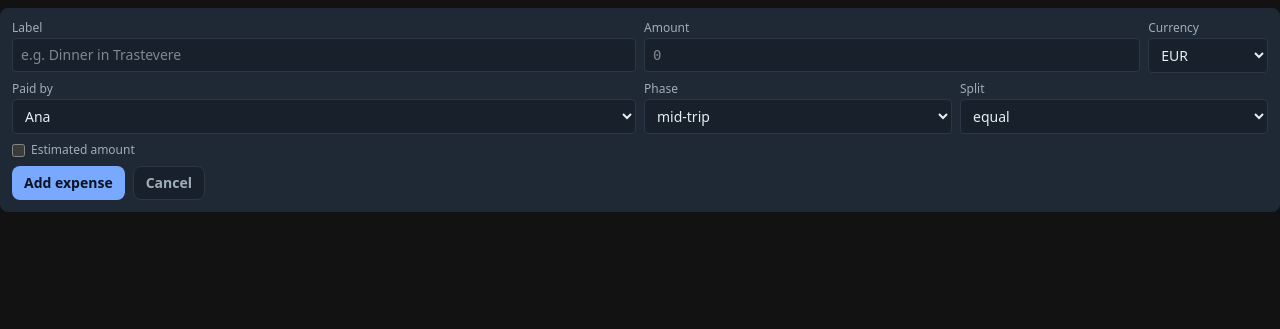
Test case: ExpenseForm › percent split: converts % inputs to fractions and renders the parent's sum error
The image size is (1280, 329).
In the field labelled "Label": {"x": 324, "y": 55} top-left (12, 38), bottom-right (636, 72), type "Taxi"
In the field labelled "Amount": {"x": 892, "y": 55} top-left (644, 38), bottom-right (1140, 72), type "30"
Select "percent" in the dropdown labelled "Split": {"x": 1114, "y": 116} top-left (960, 99), bottom-right (1268, 134)
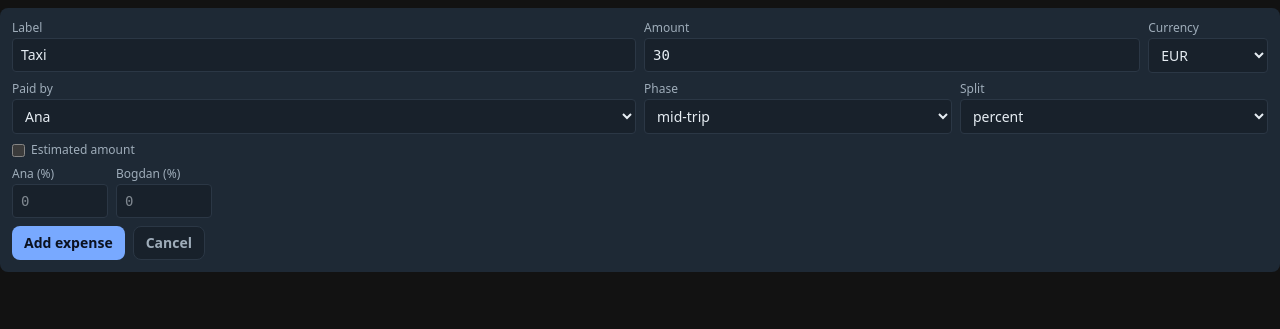
In the field labelled "Ana (%)": {"x": 60, "y": 201} top-left (12, 184), bottom-right (108, 218), type "60"
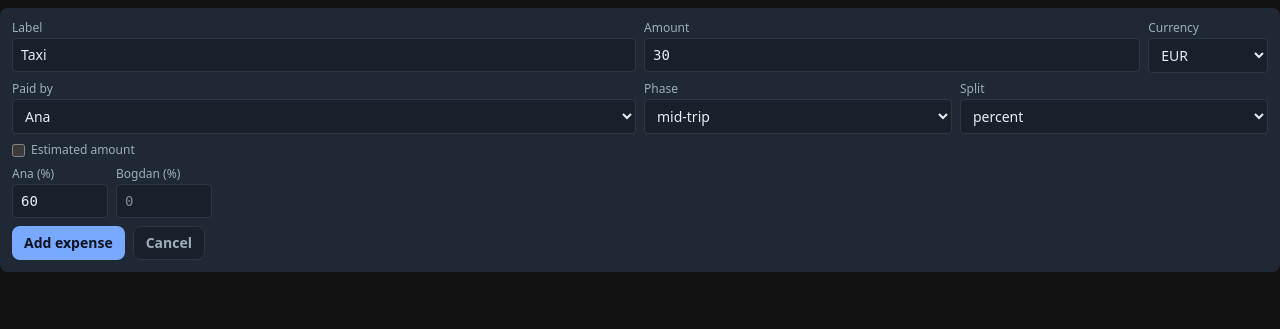
In the field labelled "Bogdan (%)": {"x": 164, "y": 201} top-left (116, 184), bottom-right (212, 218), type "30"
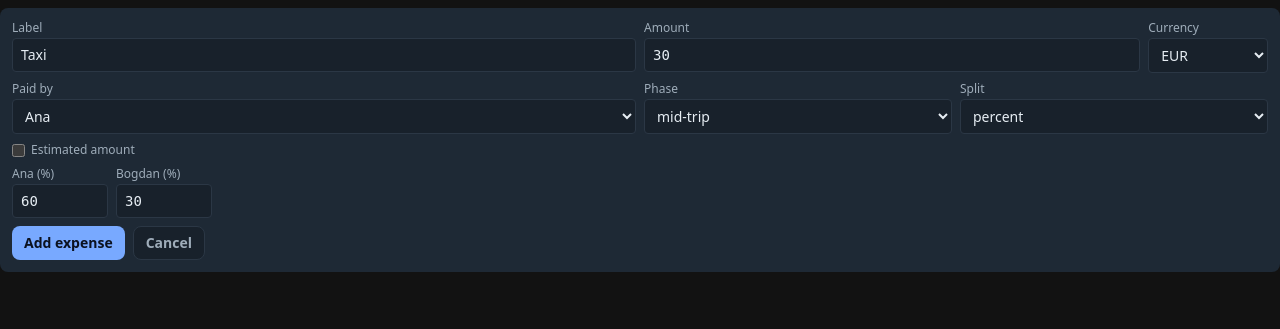
Click the button "Add expense": {"x": 68, "y": 243} top-left (12, 226), bottom-right (125, 260)
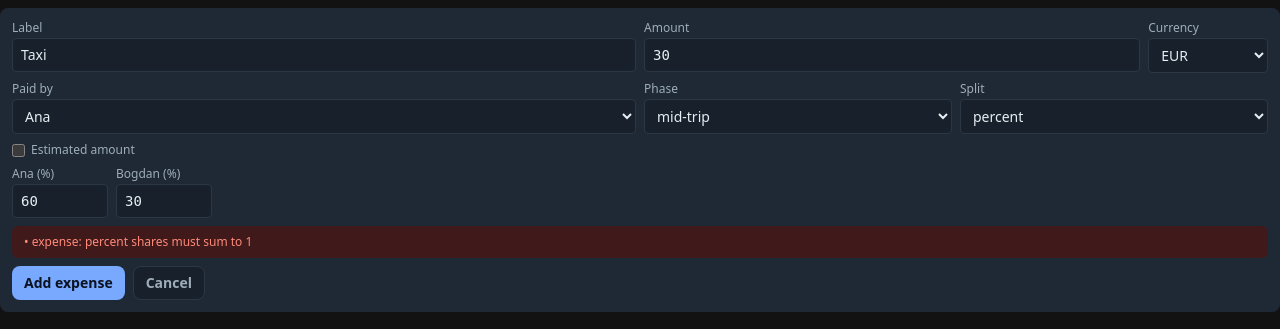
Expected: the text "• expense: percent shares must sum to 1" is shown, top-left (24, 233), bottom-right (252, 250)
// Fixing the shares clears the error on the next accepted submit.
Replace the text in the field labelled "Bogdan (%)" with "40": {"x": 164, "y": 201} top-left (116, 184), bottom-right (212, 218)
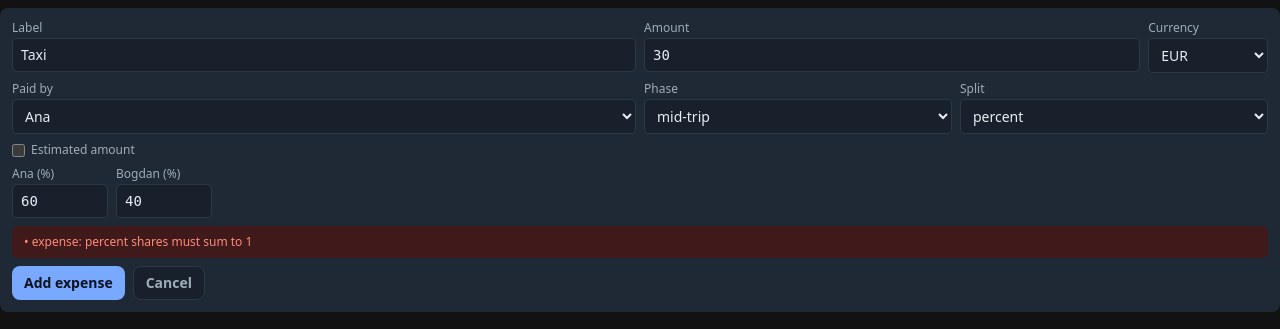
Click the button "Add expense": {"x": 68, "y": 283} top-left (12, 266), bottom-right (125, 300)
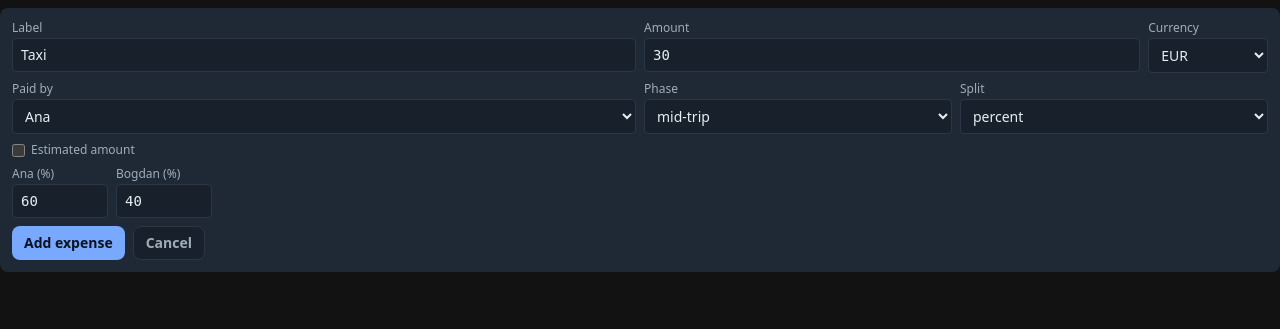
Expected: the text "percent shares must sum to 1" is gone
